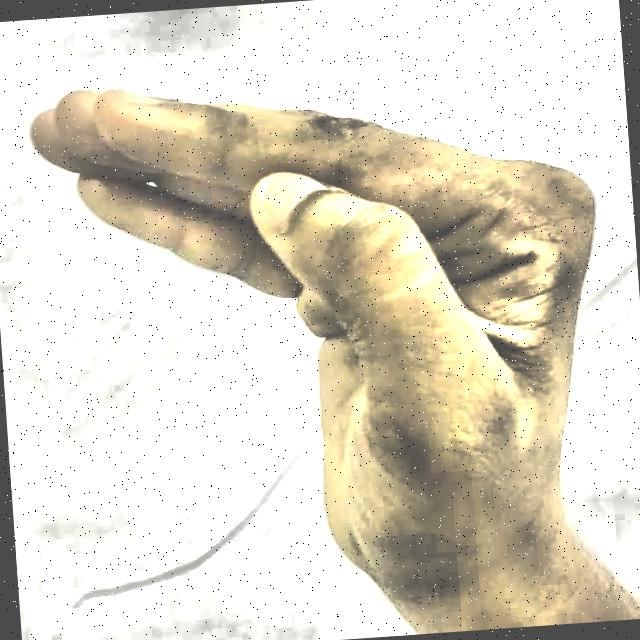Ga: (4, 12, 640, 627)
